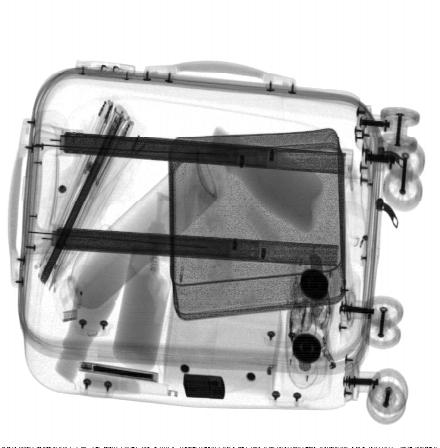Lighter: (183, 373, 226, 400)
Powerbank: (79, 362, 158, 383)
Sprayer: (51, 149, 218, 323)
